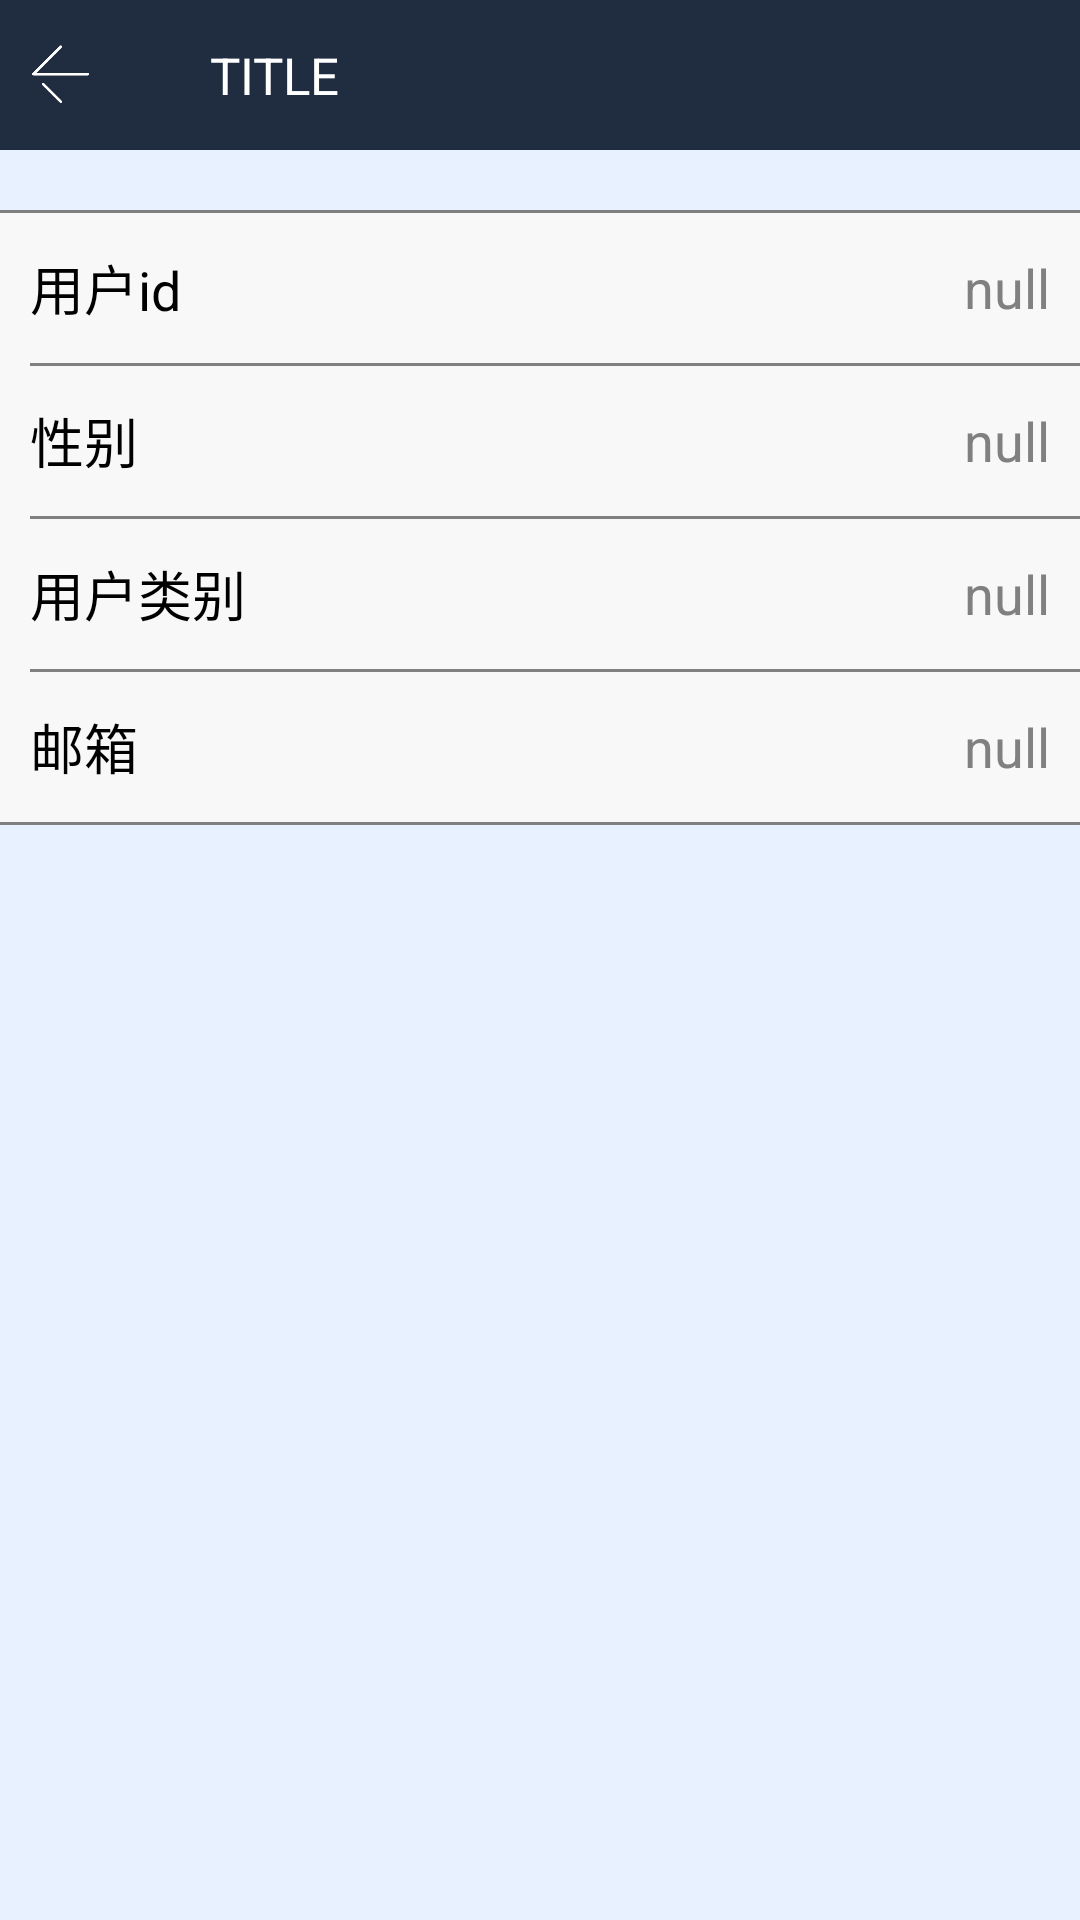

Screen size 1080px x 1920px. Icon name, then its box in pixels as (x1, y1, x2, y2):
back: (32, 45, 89, 103)
